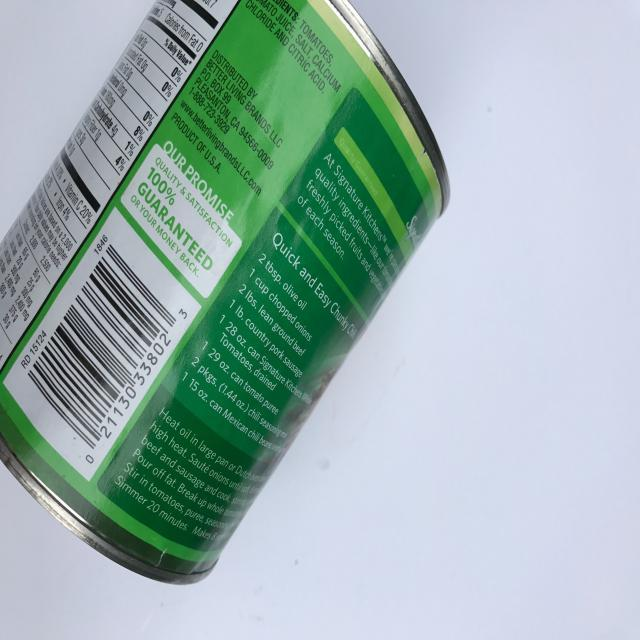metal: (1, 0, 451, 588)
